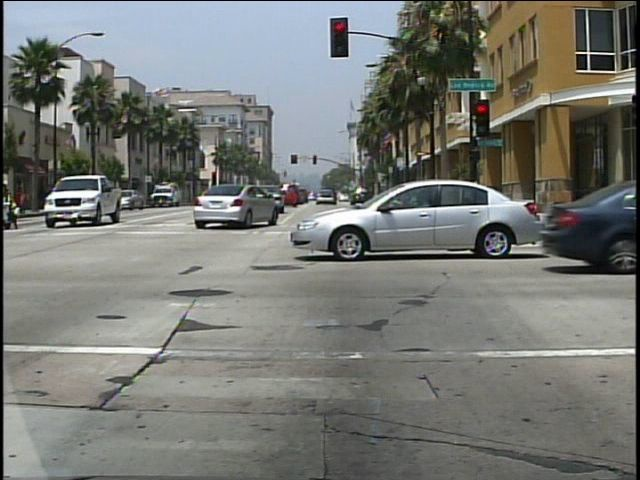person: (3, 178, 26, 233)
